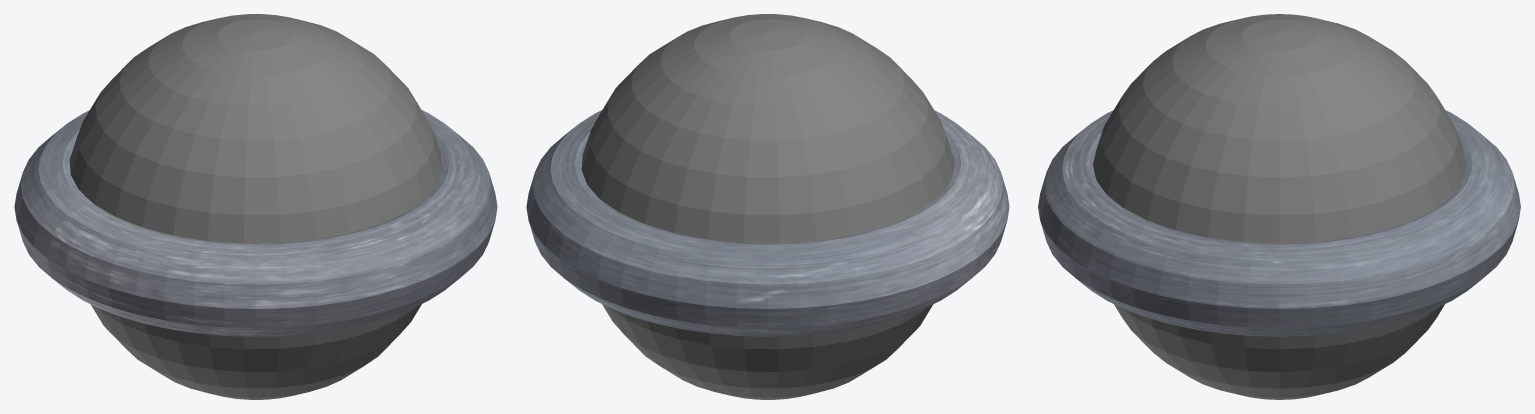
Rendered from UFO.obj.
3 views of the same model, side by side, from view 1: azimuth 30°, elevation 25°; view 2: azimuth 150°, elevation 25°; view 3: azimuth 270°, elevation 25° (orthographic).
Visible parts, largest first — view 1: Sphere, Torus; view 2: Sphere, Torus; view 3: Sphere, Torus.
Boxes of the visible parts, x1,y1,x2,y2 form: Sphere: [69, 14, 442, 399]; Torus: [14, 110, 497, 336]; Sphere: [581, 14, 954, 399]; Torus: [526, 110, 1009, 336]; Sphere: [1092, 14, 1466, 399]; Torus: [1038, 110, 1520, 336].
Bounding box in the file's own units: 2.5 × 1.92 × 2.5.
